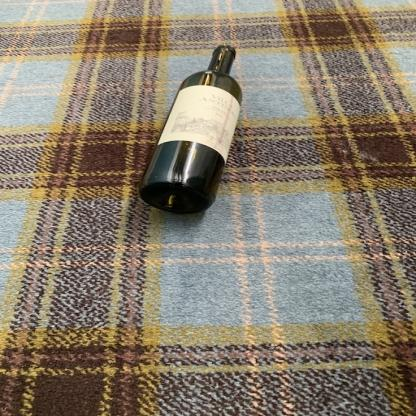trash: (137, 42, 246, 216)
